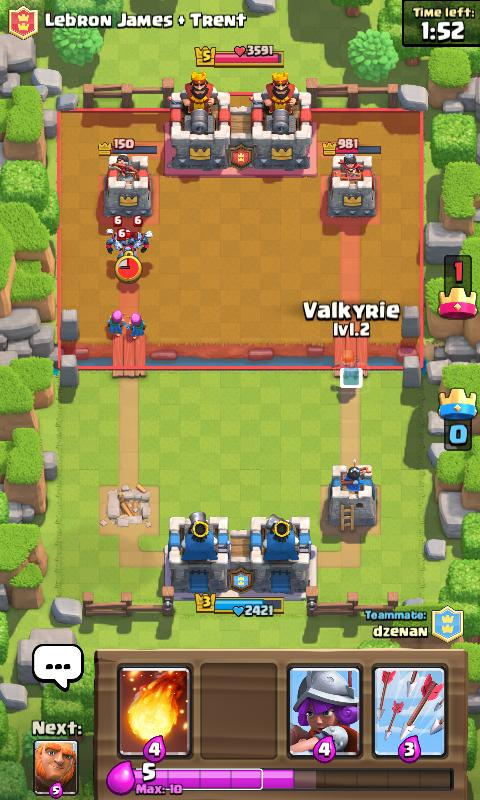ally_archer: (126, 312, 147, 338), (106, 307, 125, 335)
enemy_minion: (103, 214, 128, 254), (130, 214, 153, 254), (116, 228, 137, 260)
